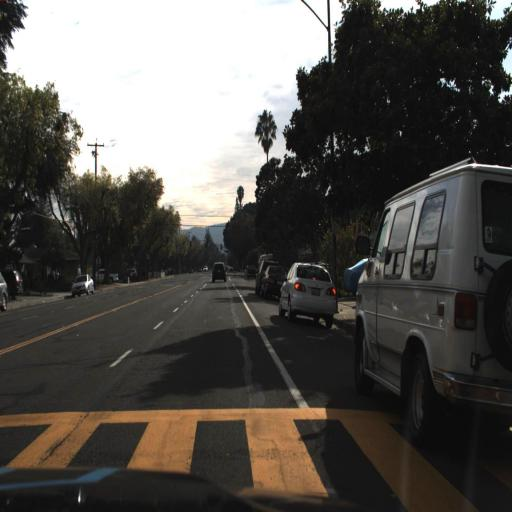car: (352, 161, 512, 430), (279, 258, 334, 329), (342, 258, 376, 297), (0, 265, 23, 315), (258, 258, 281, 304), (258, 263, 279, 302), (69, 273, 94, 296), (210, 260, 228, 290), (92, 267, 120, 284), (244, 262, 258, 282)
